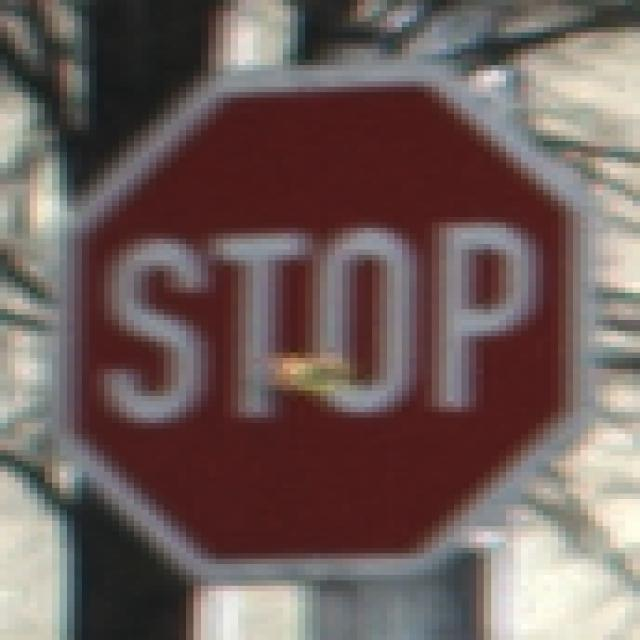STOP: (53, 55, 589, 587)
